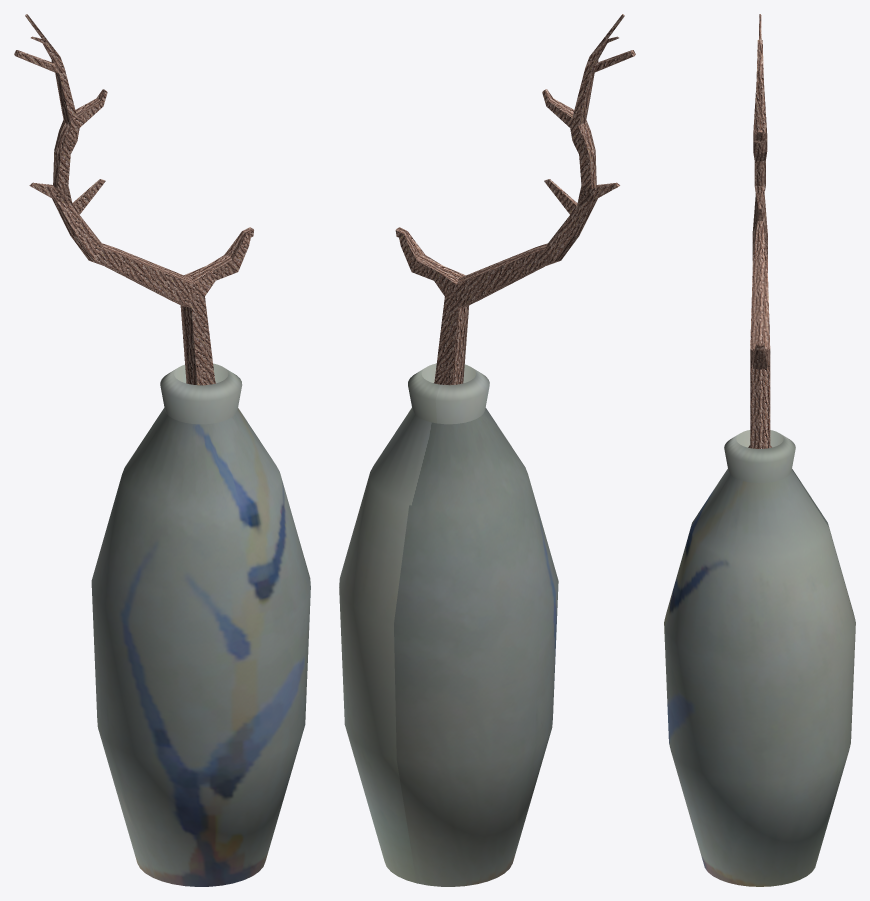
File: Florero.obj
3 renders of one model, left to right at view 1: azimuth 30°, elevation 25°; view 2: azimuth 150°, elevation 25°; view 3: azimuth 270°, elevation 25°, orthographic. The views are drawn at different scales.
Parts seen in each view (by area): view 1: Cylinder, Cube; view 2: Cylinder, Cube; view 3: Cylinder, Cube.
Boxes of the visible parts, box(x1,y1,x2,y2) form: Cylinder: box(91, 363, 310, 886); Cube: box(14, 14, 253, 385); Cylinder: box(339, 363, 558, 886); Cube: box(395, 14, 635, 385); Cylinder: box(664, 430, 855, 886); Cube: box(748, 14, 772, 448).
Bounding box in the file's own units: 2.95 × 8.91 × 2.
